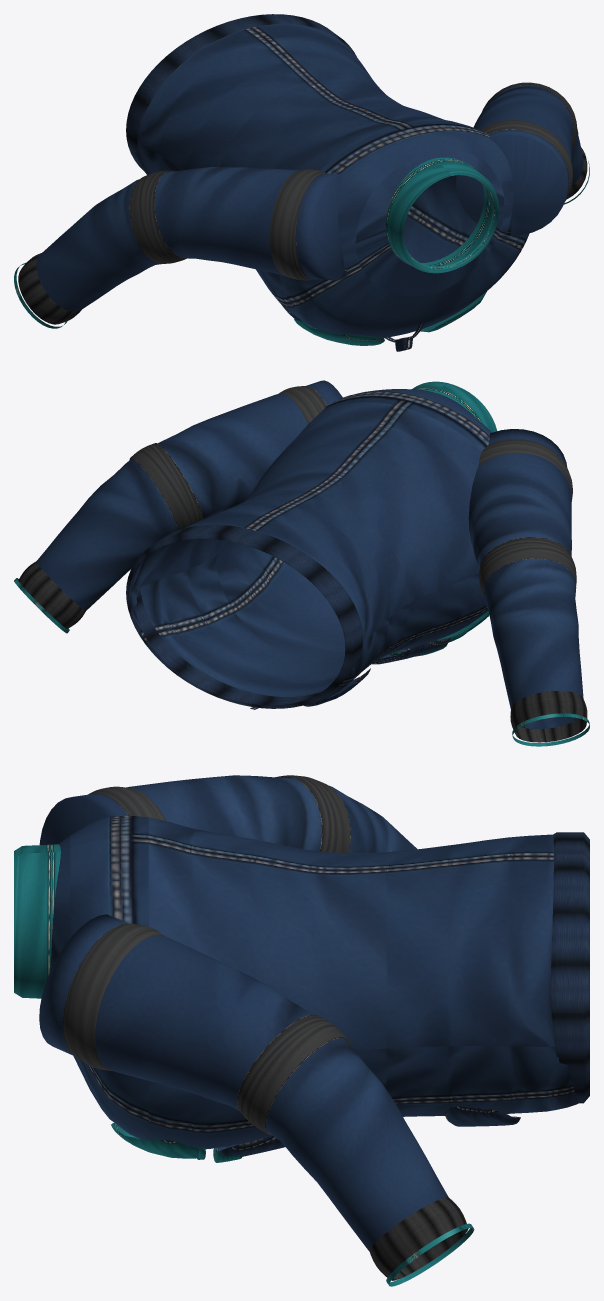
File: Aurora-Jacket.obj
The picture shows the model from 3 angles, top to bottom: view 1: azimuth 30°, elevation 25°; view 2: azimuth 150°, elevation 25°; view 3: azimuth 270°, elevation 25°; orthographic projection. The views are drawn at different scales.
Visible parts, largest first — view 1: Aurora_Jacket; view 2: Aurora_Jacket; view 3: Aurora_Jacket.
Part boxes in pixels (x1,y1,x2,y2): Aurora_Jacket: [14, 14, 589, 351]; Aurora_Jacket: [14, 380, 589, 746]; Aurora_Jacket: [14, 775, 589, 1286].
Size of the model in its own units: 0.8573 by 0.3271 by 0.558.
Materials: 1 (1 with a texture image).
